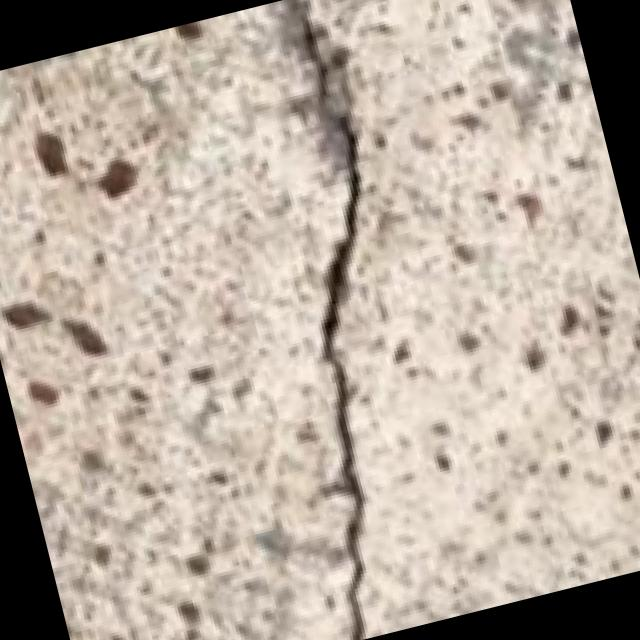crack: (125, 0, 533, 640)
